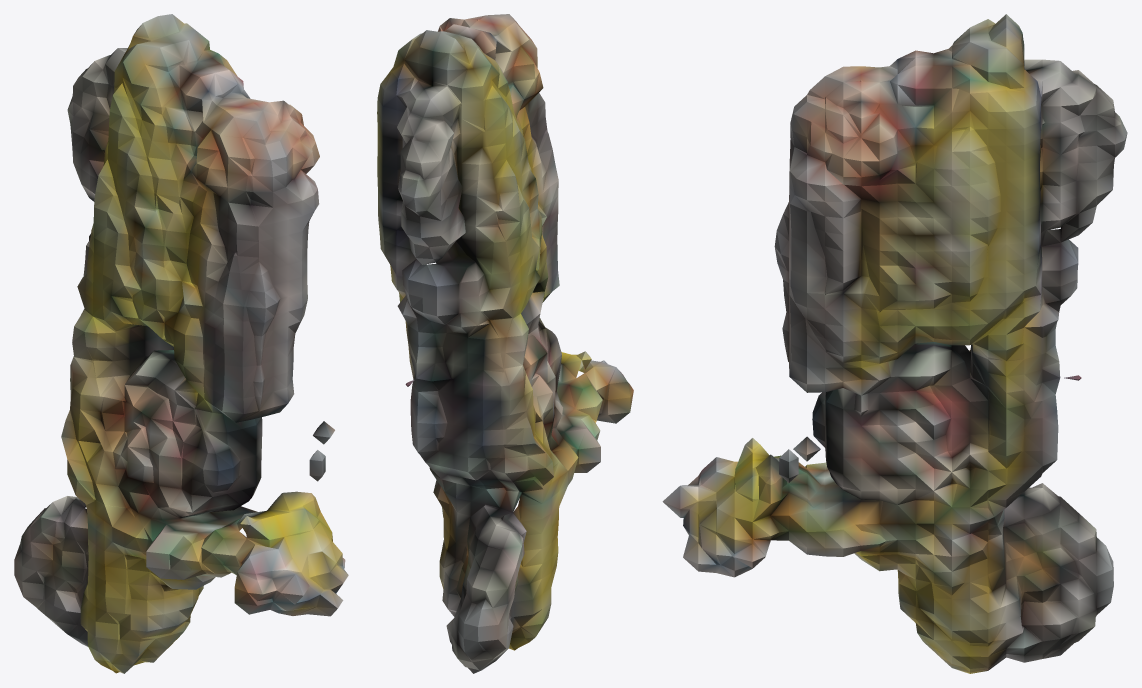
File: 000000_vespa_scooter_bicycle_10240_64.glb
The picture shows the model from 3 angles, left to right: view 1: azimuth 30°, elevation 25°; view 2: azimuth 150°, elevation 25°; view 3: azimuth 270°, elevation 25°; orthographic projection. The views are drawn at different scales.
Parts seen in each view (by area): view 1: world; view 2: world; view 3: world.
Boxes of the visible parts, <box> form: world: <box>14,14,348,673</box>; world: <box>377,14,633,673</box>; world: <box>662,14,1127,673</box>.
Bounding box in the file's own units: 0.3581 × 1.14 × 0.7092.
